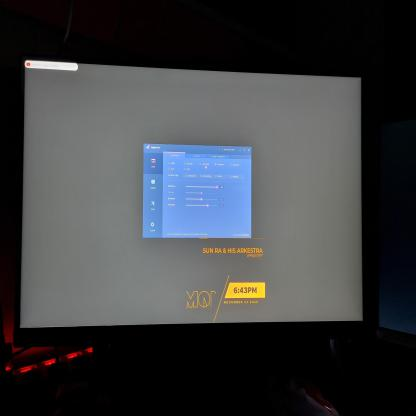Normal: (17, 61, 367, 337)
